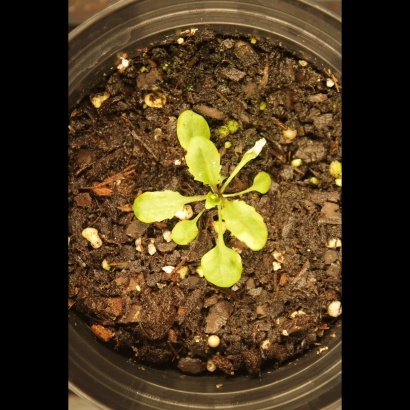leaf: (184, 133, 225, 198), (197, 242, 246, 295), (222, 204, 272, 253), (132, 186, 193, 225), (170, 101, 215, 147), (171, 213, 200, 249), (250, 169, 279, 197), (200, 189, 223, 212)
